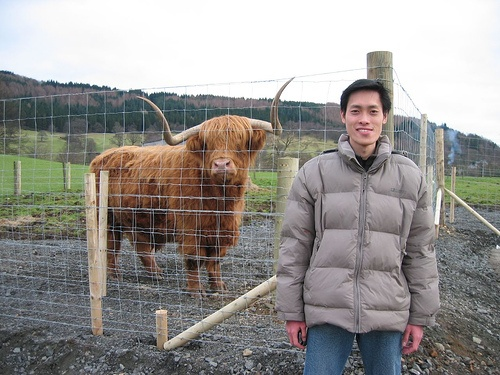head: (341, 78, 389, 147)
person: (274, 76, 438, 373)
